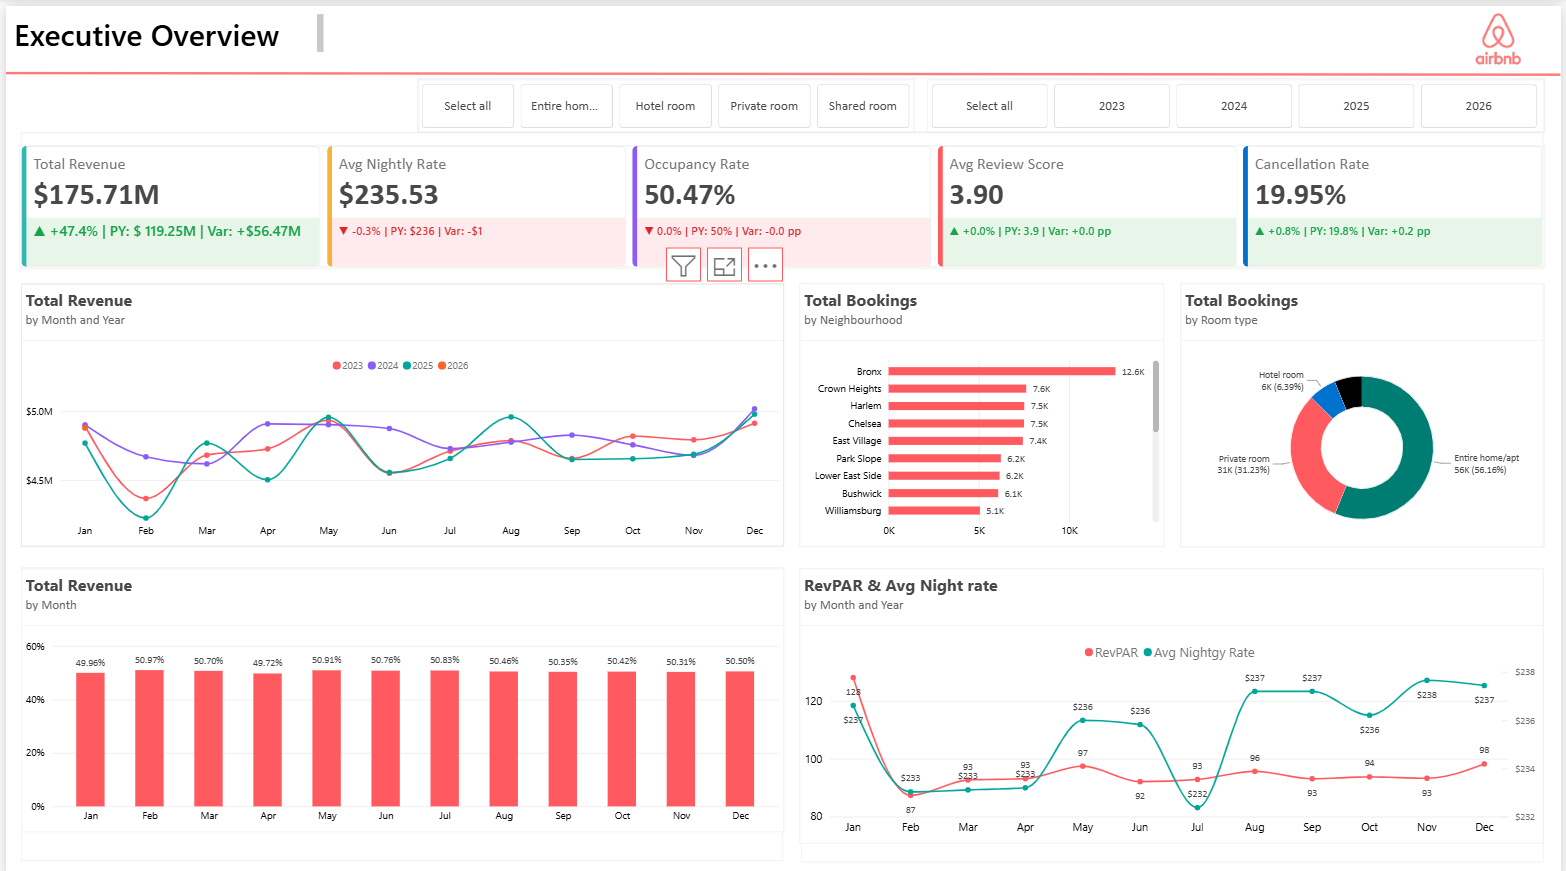

What the dashboard file says about the page in this screenshot:
{"tool":"powerbi","page":{"name":"Executive Overview","canvas":[1920,1080],"ordinal":0},"visuals":[{"type":"shape","box":[508.9,89.2,1390.9,66.9],"z":0},{"type":"shape","box":[16.2,172.3,1883.6,150],"z":1000},{"type":"shape","box":[18.2,342.7,940.8,324.4],"z":2000},{"type":"shape","box":[979.3,342.7,450.1,324.4],"z":3000},{"type":"shape","box":[1450,341.7,450,325],"z":4000},{"type":"shape","box":[18.2,693.4,940.8,362.9],"z":5000},{"type":"shape","box":[981.2,693.8,916.7,362.5],"z":6000},{"type":"textbox","box":[0,0,402,68],"z":7000},{"type":"advancedSlicerVisual","fields":{"Values":["dim_property.room_type"]},"box":[508,90,614,66],"z":8000},{"type":"advancedSlicerVisual","fields":{"Values":["dim_date.year"]},"box":[1136.2,90.8,762,66],"z":9000},{"type":"cardVisual","fields":{"Data":["Measure Table.Total Revenue","Measure Table.Avg Nightgy Rate","Measure Table.Occupancy Rate","Measure Table.Avg Review Score","Measure Table.Cancellation Rate"]},"box":[18.8,156.2,1879.2,168.8],"z":10000},{"type":"lineChart","title":"Total Revenue ","fields":{"Category":["dim_date.Month short"],"Y":["Measure Table.Total Revenue"],"Series":["dim_date.year"]},"box":[18.8,341.7,941.7,325],"z":11000},{"type":"clusteredBarChart","fields":{"Category":["dim_location.neighbourhood"],"Y":["Measure Table.Total Bookings"]},"box":[979.2,341.7,450,325],"z":12000},{"type":"donutChart","fields":{"Category":["dim_property.room_type"],"Y":["Measure Table.Total Bookings"]},"box":[1450,341.7,447.9,325],"z":13000},{"type":"columnChart","title":"Total Revenue ","fields":{"Category":["dim_date.Month short"],"Y":["Measure Table.Occupancy Rate"]},"box":[18.8,693.8,941.7,325],"z":14000},{"type":"lineChart","title":"RevPAR & Avg Night rate","fields":{"Category":["dim_date.Month short"],"Y":["Measure Table.RevPAR"],"Y2":["Measure Table.Avg Nightgy Rate"]},"box":[979.2,693.8,918.8,339.6],"z":15000}]}

Visuals, with their boxes in screenshot pixels (x1, y1, x2, y2), scaled from the page's 1920x1080 canvas onto the 1566x871 screenshot:
shape: bbox=(415, 72, 1550, 126)
shape: bbox=(13, 139, 1550, 260)
shape: bbox=(15, 276, 782, 538)
shape: bbox=(799, 276, 1166, 538)
shape: bbox=(1183, 276, 1550, 538)
shape: bbox=(15, 559, 782, 852)
shape: bbox=(800, 560, 1548, 852)
textbox: bbox=(0, 0, 328, 55)
advancedSlicerVisual - dim_property.room_type: bbox=(414, 73, 915, 126)
advancedSlicerVisual - dim_date.year: bbox=(927, 73, 1548, 126)
cardVisual - Measure Table.Total Revenue x Measure Table.Avg Nightgy Rate: bbox=(15, 126, 1548, 262)
"Total Revenue " lineChart: bbox=(15, 276, 783, 538)
clusteredBarChart - dim_location.neighbourhood x Measure Table.Total Bookings: bbox=(799, 276, 1166, 538)
donutChart - dim_property.room_type x Measure Table.Total Bookings: bbox=(1183, 276, 1548, 538)
"Total Revenue " columnChart: bbox=(15, 560, 783, 822)
"RevPAR & Avg Night rate" lineChart: bbox=(799, 560, 1548, 833)
